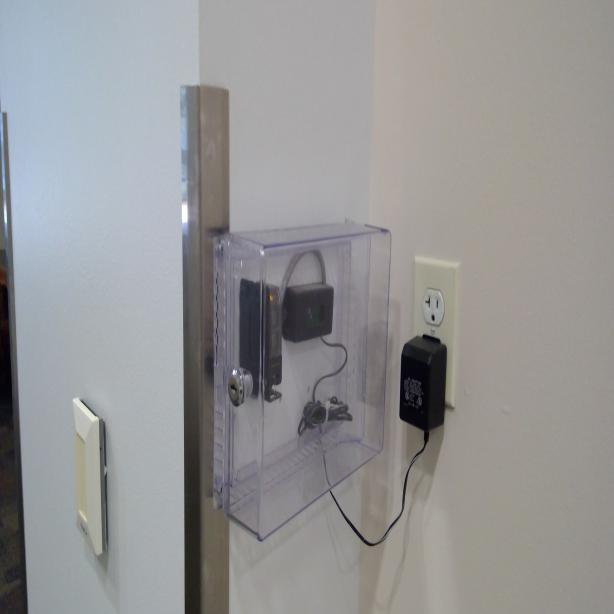typeb: (423, 288, 443, 326)
